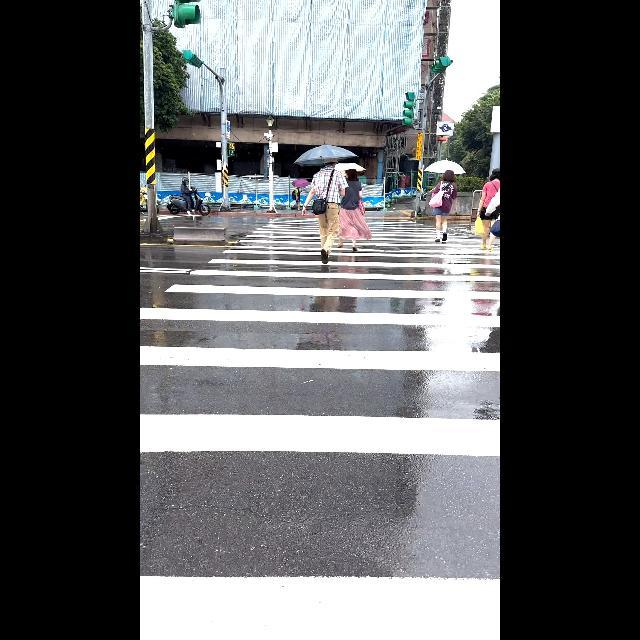sidewalk: (140, 216, 500, 639)
